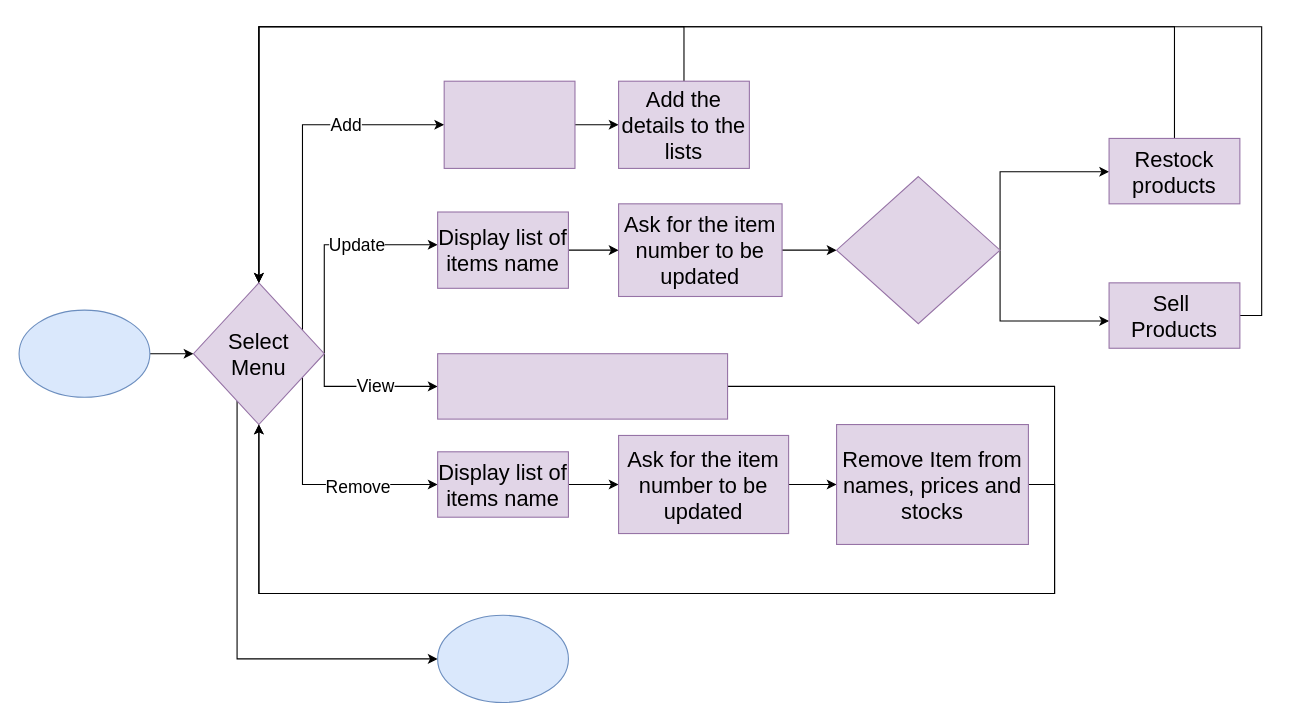
Some shapes in this 1289 by 722 pixel diagram are drawn without their labels. The centre of each missing label's shape, as x and y in pixels:
Ask for process type: [917,249]
Ask for the Name, Price and Stock: [509,124]
Close Program: [502,658]
Display list of item with name, Price and Stock: [582,386]
Prompt the main menu: [84,353]
